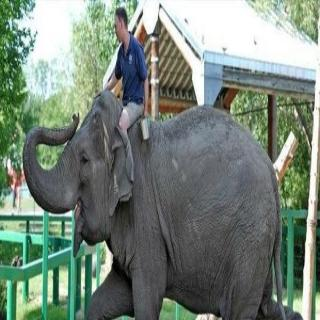Elephant: (22, 86, 310, 320)
